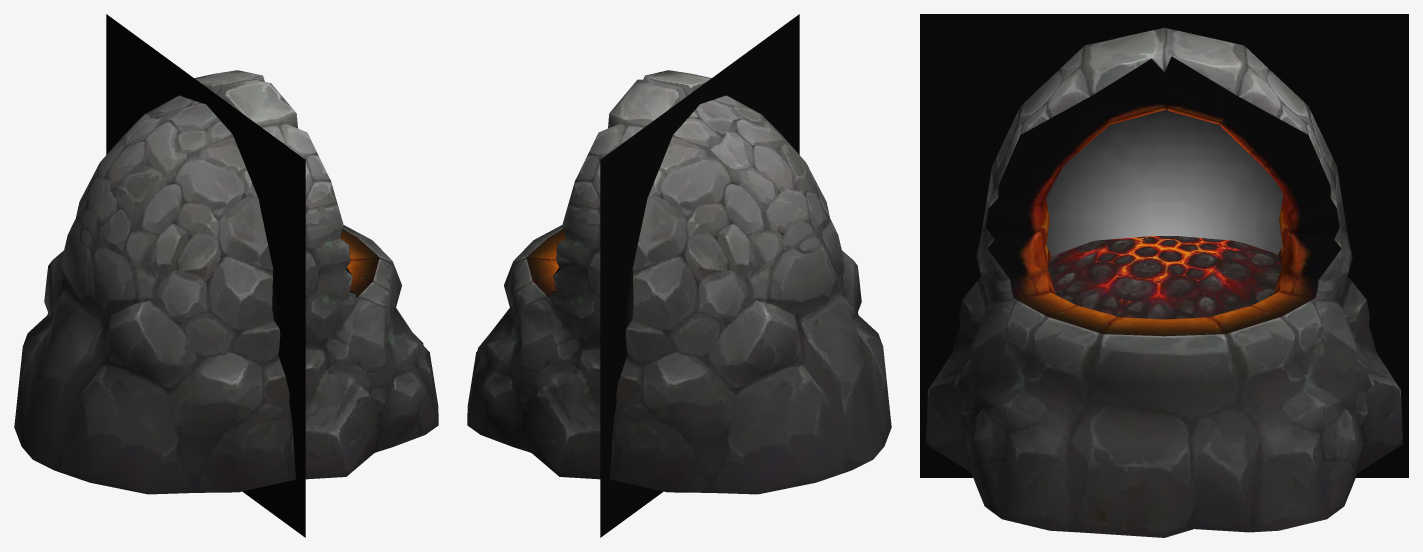
3 views of the same model, side by side, from view 1: azimuth 30°, elevation 25°; view 2: azimuth 150°, elevation 25°; view 3: azimuth 270°, elevation 25° (orthographic). The views are drawn at different scales.
Bounding box in the file's own units: 6.33 × 6.16 × 5.89.
Materials: 4 (4 with a texture image).
